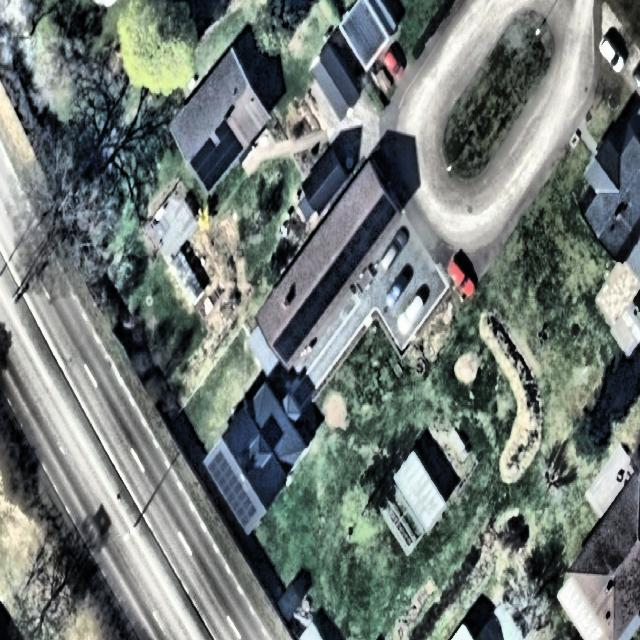roof_pv: (186, 116, 246, 194), (365, 191, 397, 259), (208, 445, 234, 518), (274, 303, 302, 366), (342, 215, 364, 289), (319, 248, 342, 318), (235, 468, 255, 528), (301, 278, 319, 338)
